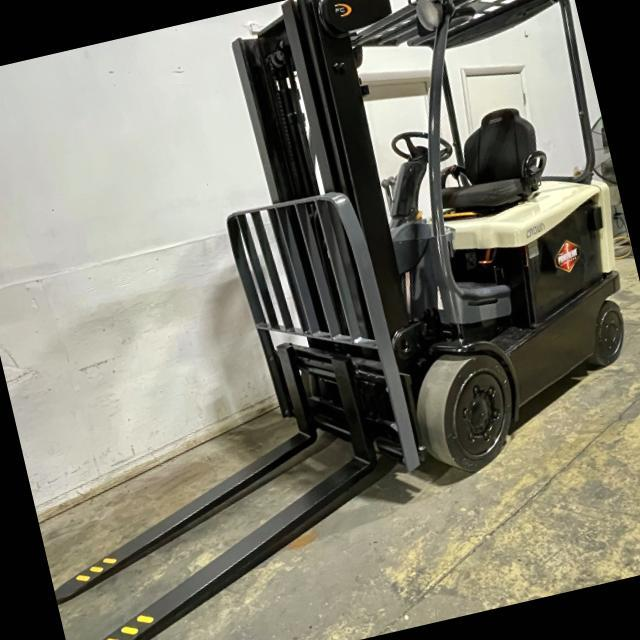forklift: (140, 0, 640, 532)
